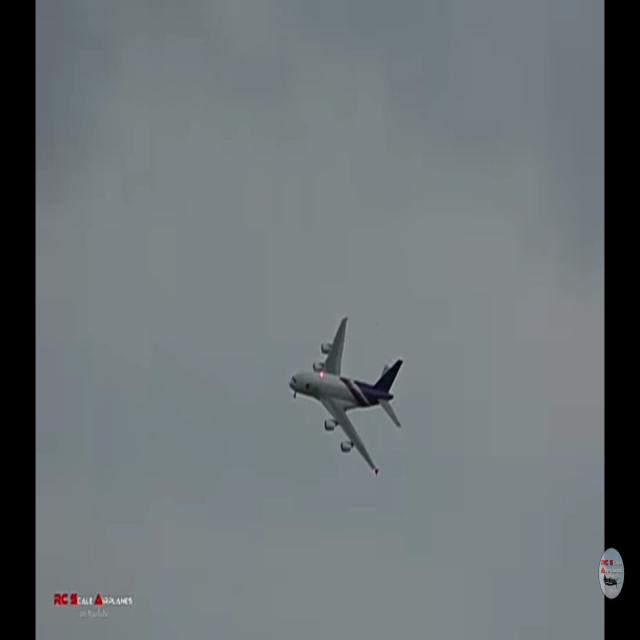iha: (320, 315, 371, 479)
